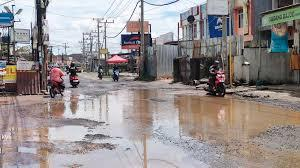Pothole: (1, 80, 280, 167)
